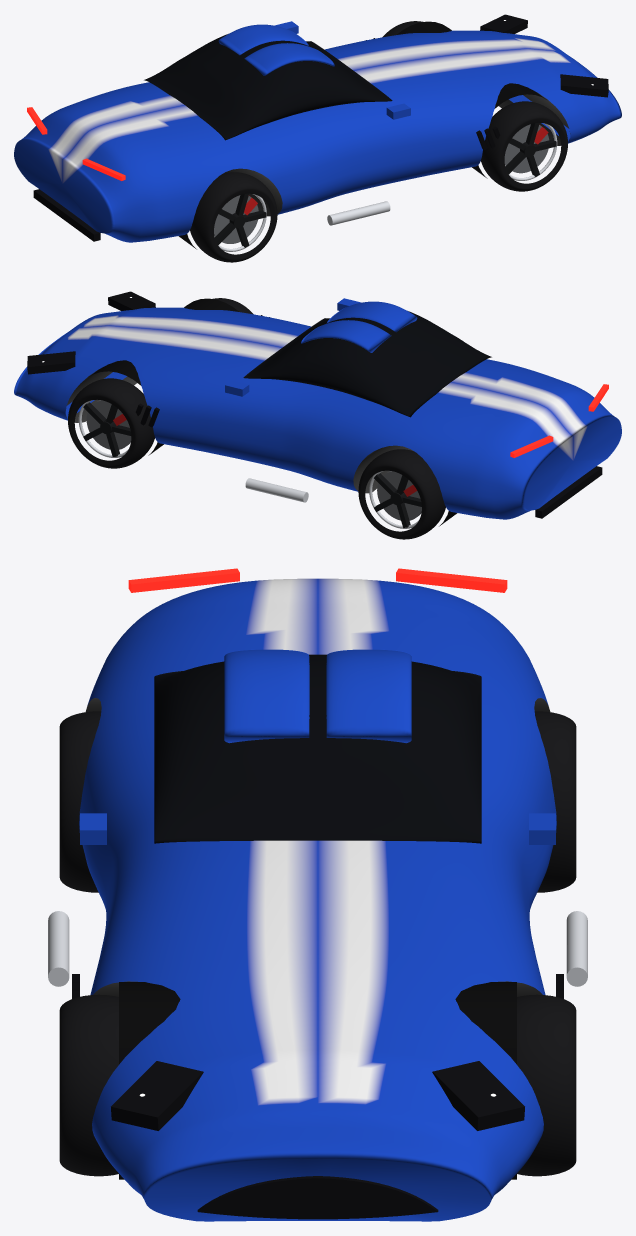
Rendered from viper.glb.
3 renders of one model, top to bottom at view 1: azimuth 30°, elevation 25°; view 2: azimuth 150°, elevation 25°; view 3: azimuth 270°, elevation 25°, orthographic. The views are drawn at different scales.
Visible parts, largest first — view 1: Viper; view 2: Viper; view 3: Viper.
Boxes of the visible parts, bbox=[...] form: Viper: bbox=[14, 14, 621, 262]; Viper: bbox=[14, 291, 621, 539]; Viper: bbox=[48, 568, 587, 1221].
Bounding box in the file's own units: 4.48 × 1.29 × 2.02.
